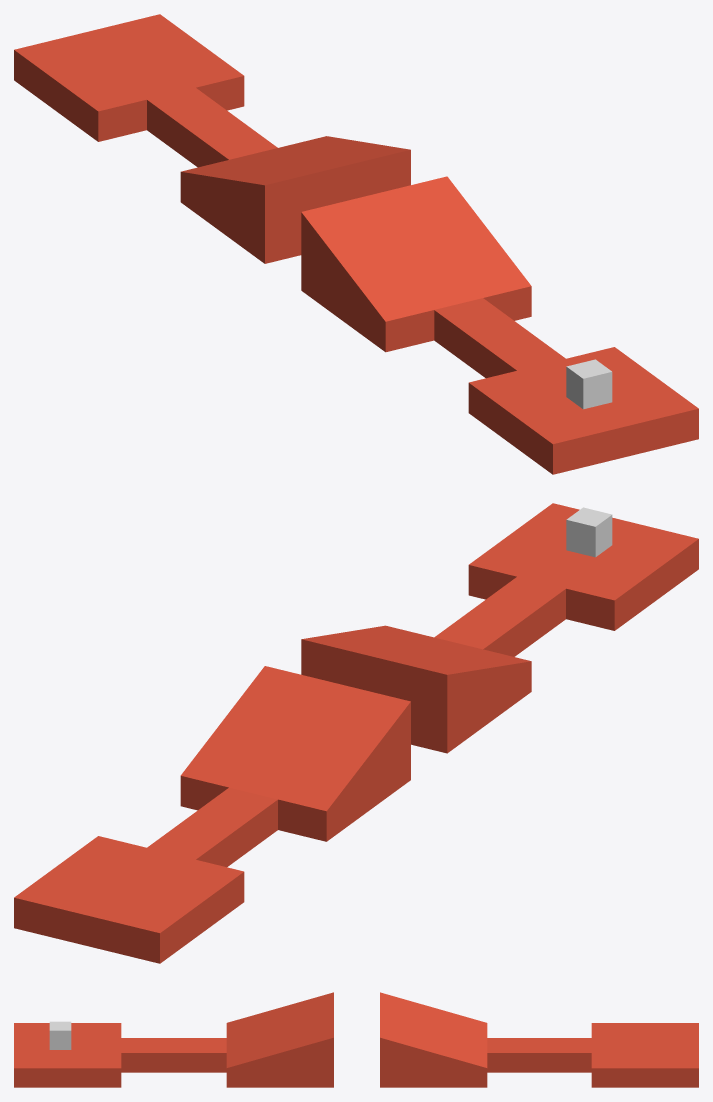
Rendered from world.glb.
3 views of the same model, one above another, from view 1: azimuth 30°, elevation 25°; view 2: azimuth 150°, elevation 25°; view 3: azimuth 270°, elevation 25° (orthographic). The views are drawn at different scales.
Parts seen in each view (by area): view 1: Cube.003, Cube, Cube.005, Cube.004, Cube.001, Cube.006, Cube.002; view 2: Cube.004, Cube.005, Cube.003, Cube, Cube.001, Cube.006, Cube.002; view 3: Cube.003, Cube.004, Cube.005, Cube, Cube.001, Cube.006, Cube.002.
Part boxes in pixels (bbox=[...]): Cube.003: bbox=[301, 176, 531, 352]; Cube: bbox=[468, 347, 698, 474]; Cube.005: bbox=[14, 14, 244, 141]; Cube.004: bbox=[180, 136, 410, 263]; Cube.001: bbox=[434, 298, 565, 378]; Cube.006: bbox=[147, 87, 277, 167]; Cube.002: bbox=[566, 359, 612, 409]; Cube.004: bbox=[180, 666, 410, 841]; Cube.005: bbox=[14, 836, 244, 963]; Cube.003: bbox=[301, 625, 531, 753]; Cube: bbox=[468, 503, 698, 630]; Cube.001: bbox=[434, 576, 565, 656]; Cube.006: bbox=[147, 787, 277, 867]; Cube.002: bbox=[566, 507, 612, 557]; Cube.003: bbox=[226, 992, 333, 1087]; Cube.004: bbox=[380, 992, 487, 1087]; Cube.005: bbox=[591, 1023, 698, 1087]; Cube: bbox=[14, 1023, 121, 1087]; Cube.001: bbox=[120, 1038, 226, 1072]; Cube.006: bbox=[487, 1038, 592, 1072]; Cube.002: bbox=[49, 1021, 71, 1049].
Bounding box in the file's own units: 5 × 2.57 × 31.96.
